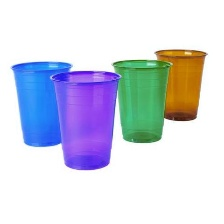glass: (48, 66, 122, 175), (106, 55, 178, 148), (6, 54, 75, 148), (151, 42, 209, 130)
